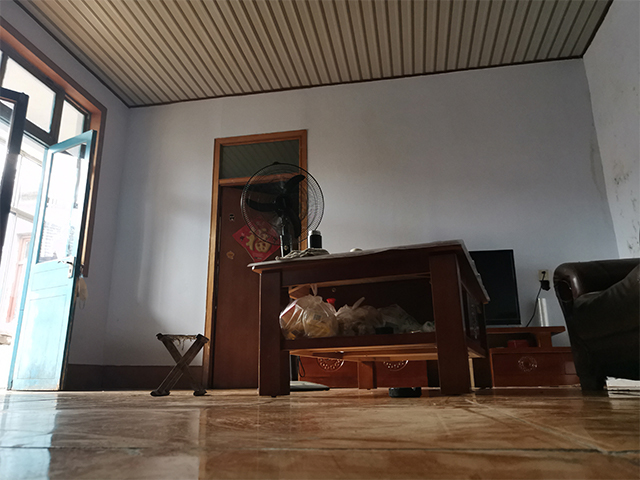cabinet: (479, 323, 583, 389)
sofa: (551, 257, 640, 392)
stool: (149, 332, 210, 397)
table: (244, 237, 493, 399)
